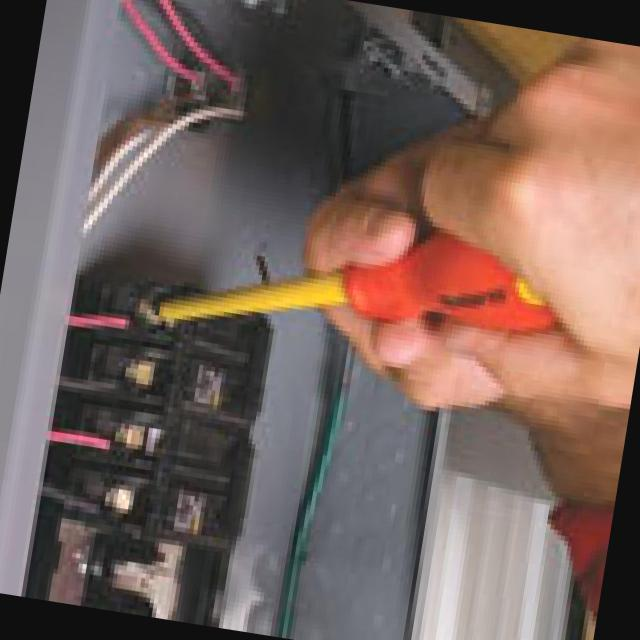screwdriver: (160, 233, 554, 333)
